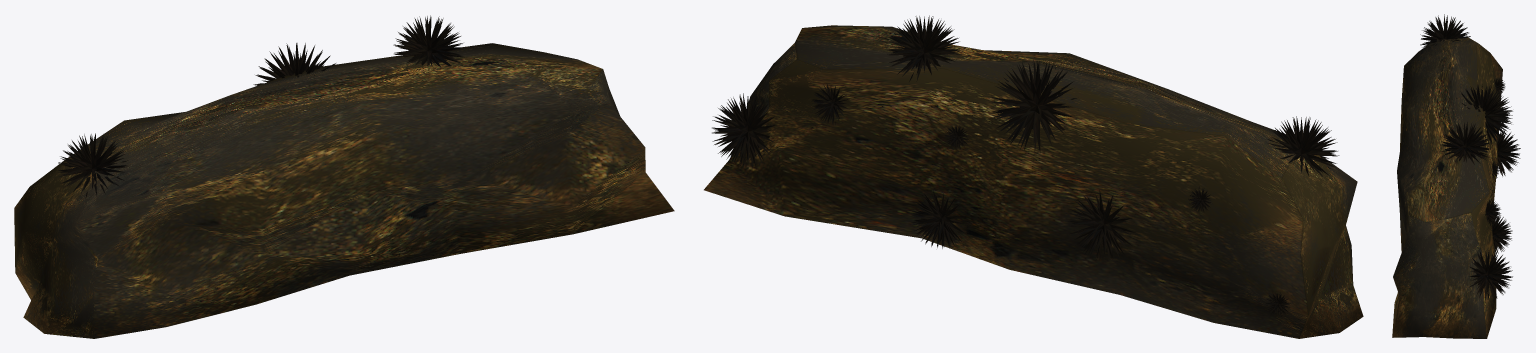
File: Scoglio_Grande.FBX
The picture shows the model from 3 angles, left to right: view 1: azimuth 30°, elevation 25°; view 2: azimuth 150°, elevation 25°; view 3: azimuth 270°, elevation 25°; orthographic projection. The views are drawn at different scales.
Parts seen in each view (by area): view 1: Box002; view 2: Box002; view 3: Box002.
Boxes of the visible parts, bbox=[...] form: Box002: bbox=[14, 15, 674, 338]; Box002: bbox=[704, 15, 1363, 338]; Box002: bbox=[1392, 14, 1520, 338].
Size of the model in its own units: 2107 by 681 by 546.
